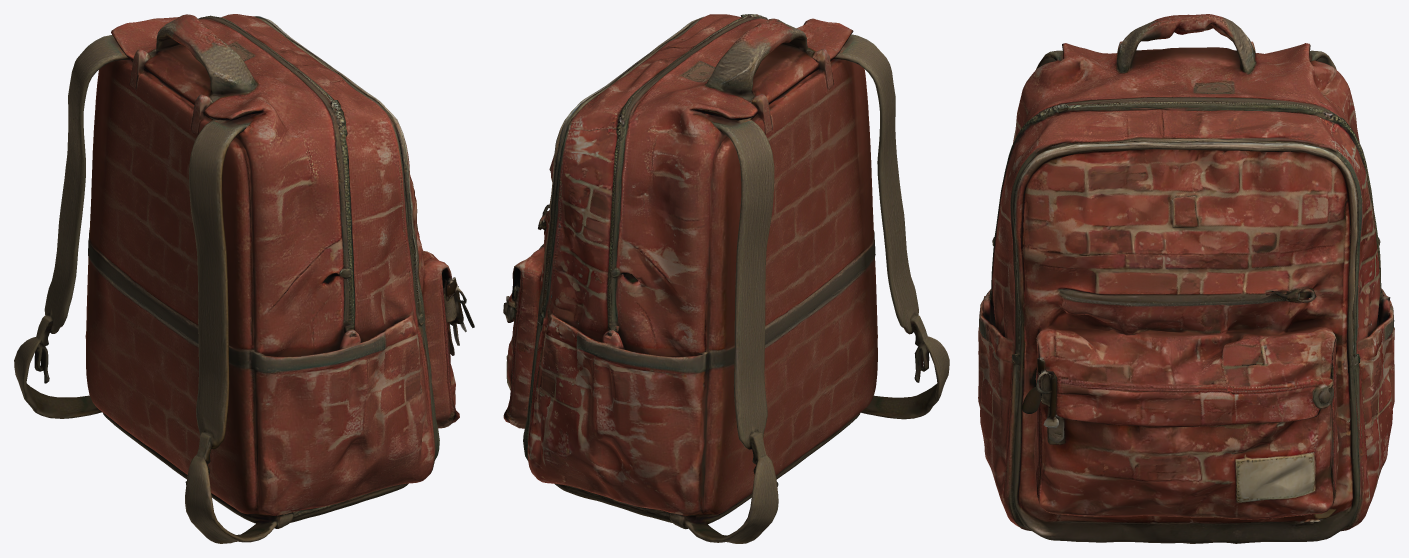
Rendered from schoolbag-web.glb.
3 views of the same model, side by side, from view 1: azimuth 30°, elevation 25°; view 2: azimuth 150°, elevation 25°; view 3: azimuth 270°, elevation 25° (orthographic). The views are drawn at different scales.
Visible parts, largest first — view 1: tripo_node_5c7d14d7-cafc-473b-9bfd-9d6f79a5f25a; view 2: tripo_node_5c7d14d7-cafc-473b-9bfd-9d6f79a5f25a; view 3: tripo_node_5c7d14d7-cafc-473b-9bfd-9d6f79a5f25a.
Boxes of the visible parts, box(x1,y1,x2,y2) form: tripo_node_5c7d14d7-cafc-473b-9bfd-9d6f79a5f25a: box(14, 14, 474, 543); tripo_node_5c7d14d7-cafc-473b-9bfd-9d6f79a5f25a: box(503, 14, 949, 543); tripo_node_5c7d14d7-cafc-473b-9bfd-9d6f79a5f25a: box(978, 14, 1394, 543).
Size of the model in its own units: 0.3262 by 0.45 by 0.3729.
Materials: 1 (1 with a texture image).
